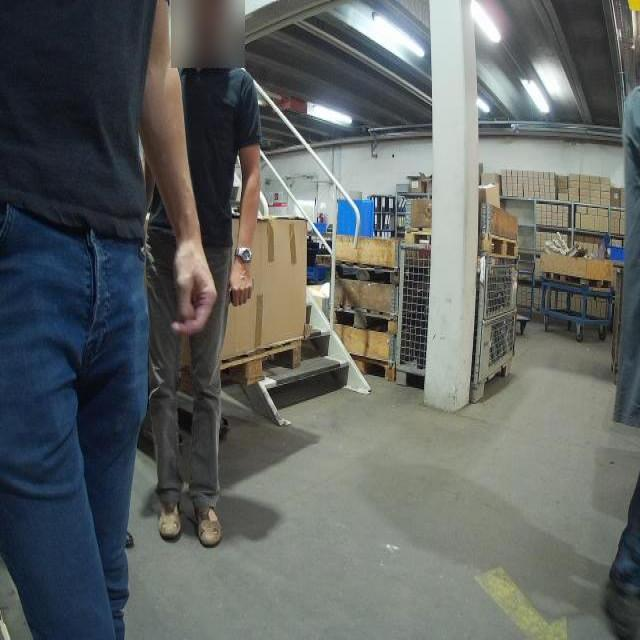pallet: (180, 338, 304, 400), (402, 222, 520, 261), (332, 301, 399, 338), (332, 259, 403, 287), (540, 268, 614, 292), (346, 353, 396, 382)
stillage: (390, 237, 521, 409)
